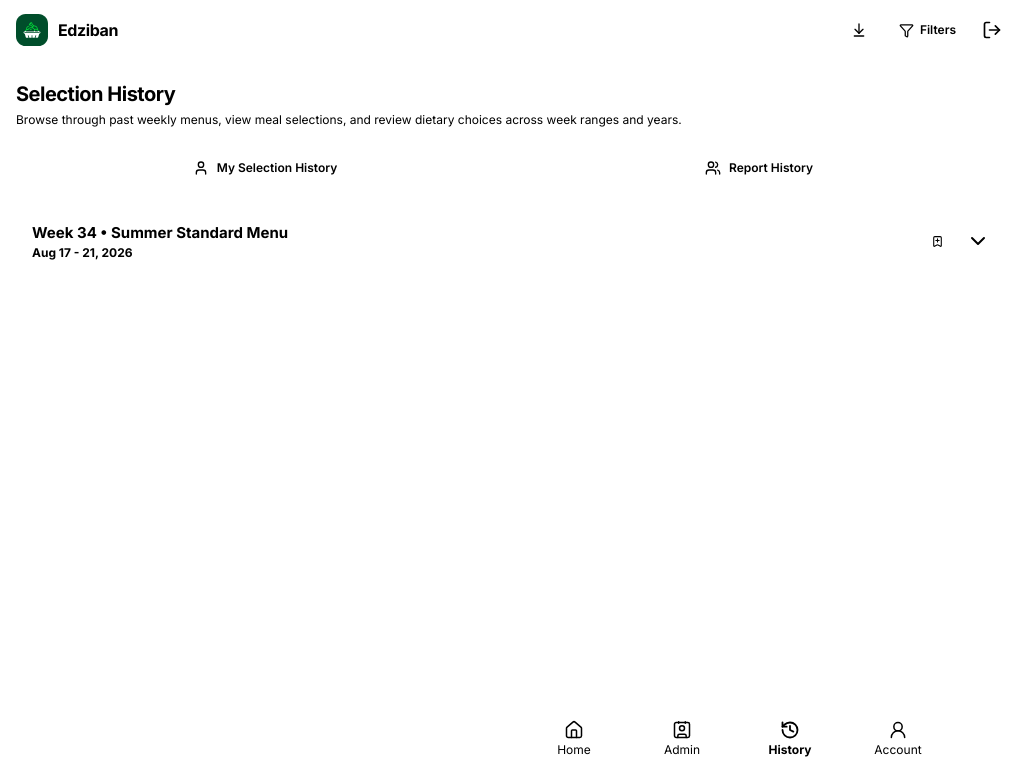
Test case: History Page Component › toggles filter panel and displays live date range preview for entered week numbers
Click the button with aria-label "toggle filter panel". click: [927, 30]
box: [887, 16, 968, 44]
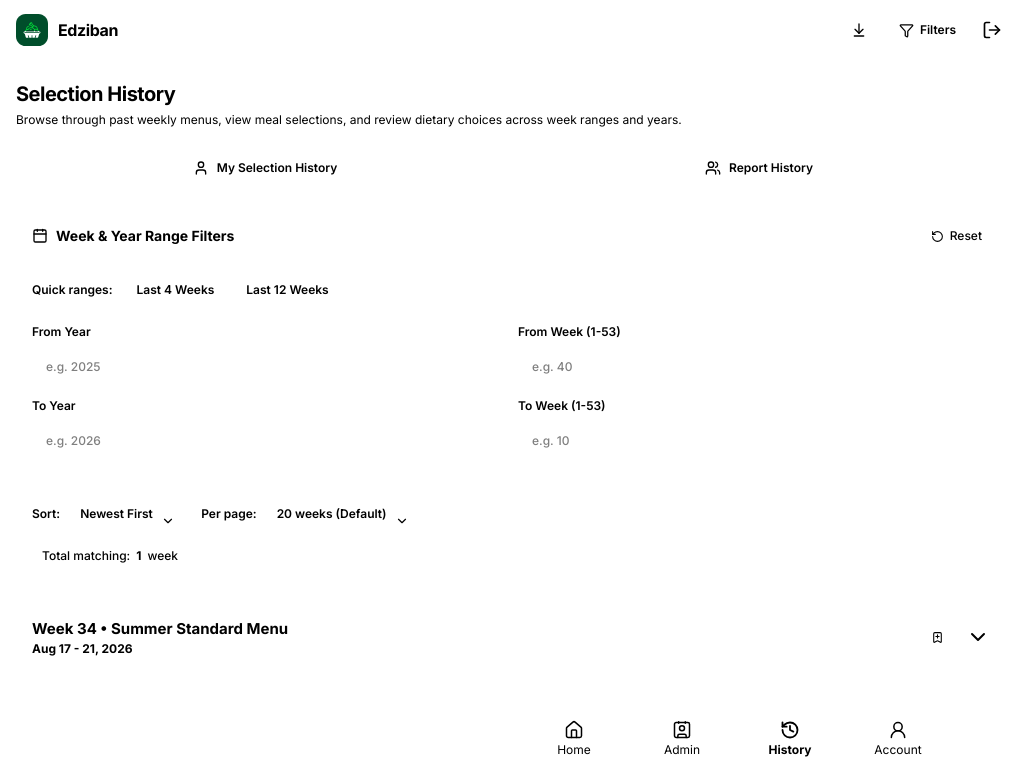
Expected: the text "Week & Year Range Filters" is shown, [56, 226, 234, 246]
Type "2026" into the number field labelled "From Year". click: [269, 366]
box: [32, 346, 506, 386]
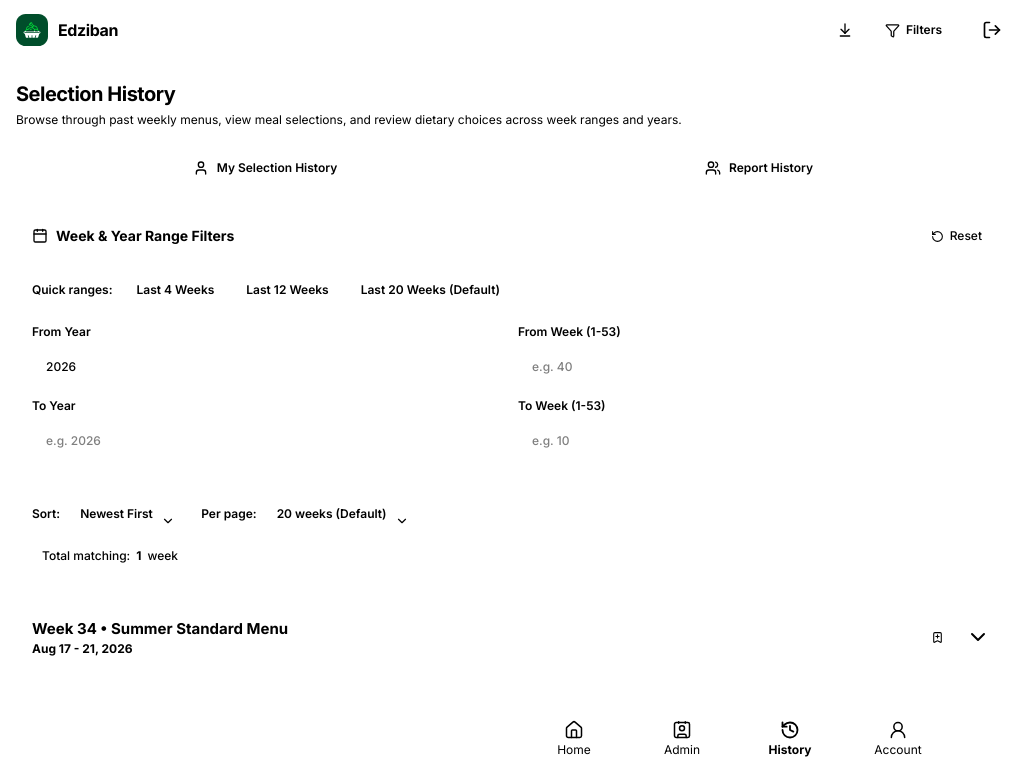
Type "35" into the number field labelled "From Week (1-53)". click: [755, 366]
box: [518, 346, 992, 386]
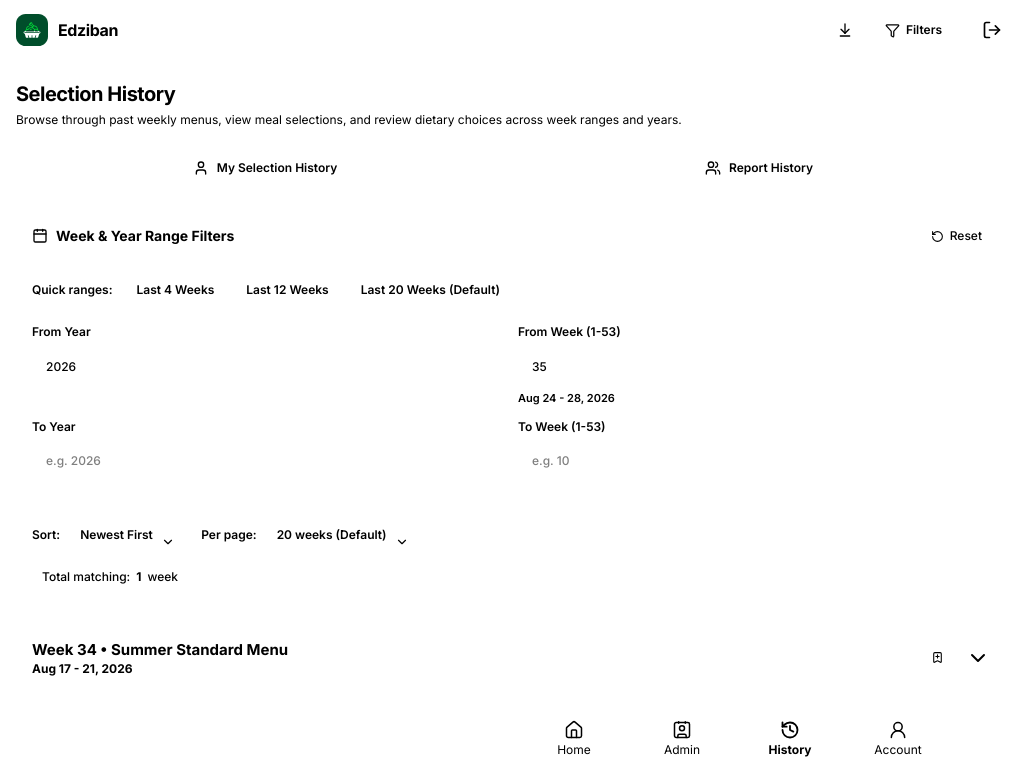
Expected: the text "Aug 24 - 28, 2026" is shown, [518, 391, 615, 405]
